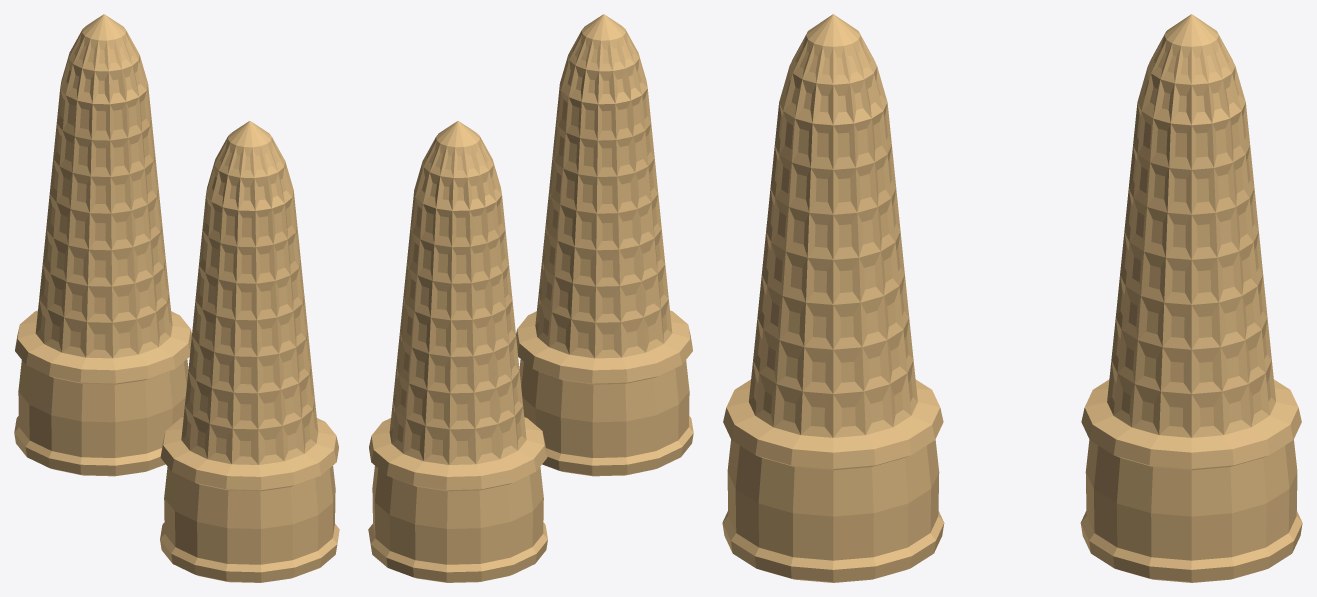
The model's file is Texturizado_Plataforma_Suelo_Pinchos_001.glb.
3 renders of one model, left to right at view 1: azimuth 30°, elevation 25°; view 2: azimuth 150°, elevation 25°; view 3: azimuth 270°, elevation 25°, orthographic. The views are drawn at different scales.
Parts seen in each view (by area): view 1: Modelado_Pinchos_001; view 2: Modelado_Pinchos_001; view 3: Modelado_Pinchos_001.
Part boxes in pixels (x1=…): Modelado_Pinchos_001: x1=14, y1=14, x2=339, y2=582; Modelado_Pinchos_001: x1=368, y1=14, x2=693, y2=582; Modelado_Pinchos_001: x1=722, y1=14, x2=1302, y2=582.
Size of the model in its own units: 1.25 by 3.25 by 3.25.
